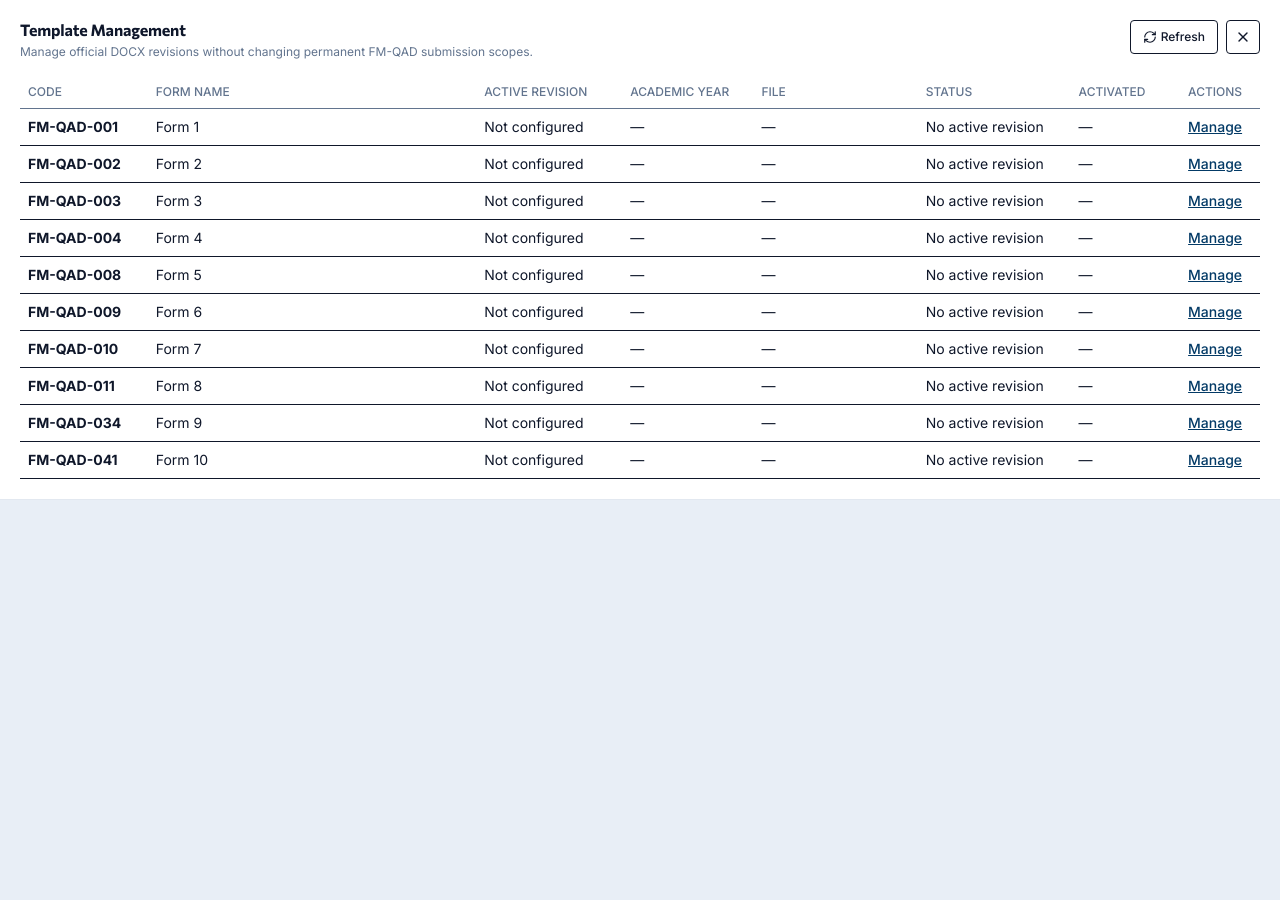
Scenario: MonitorFmQadTemplateManager › lists the fixed catalog and opens version history
The width and height of the screenshot is (1280, 900).
Check: the text "FM-QAD-001" is shown, box x1=20 y1=108 x2=148 y2=146
Check: the text "FM-QAD-010" is shown, box x1=20 y1=330 x2=148 y2=368
What coordinates should you click on to do the following:
click the button "Manage" in the row of "FM-QAD-001"
I would click on:
 (1215, 127)
Its box is x1=1188 y1=117 x2=1242 y2=137.
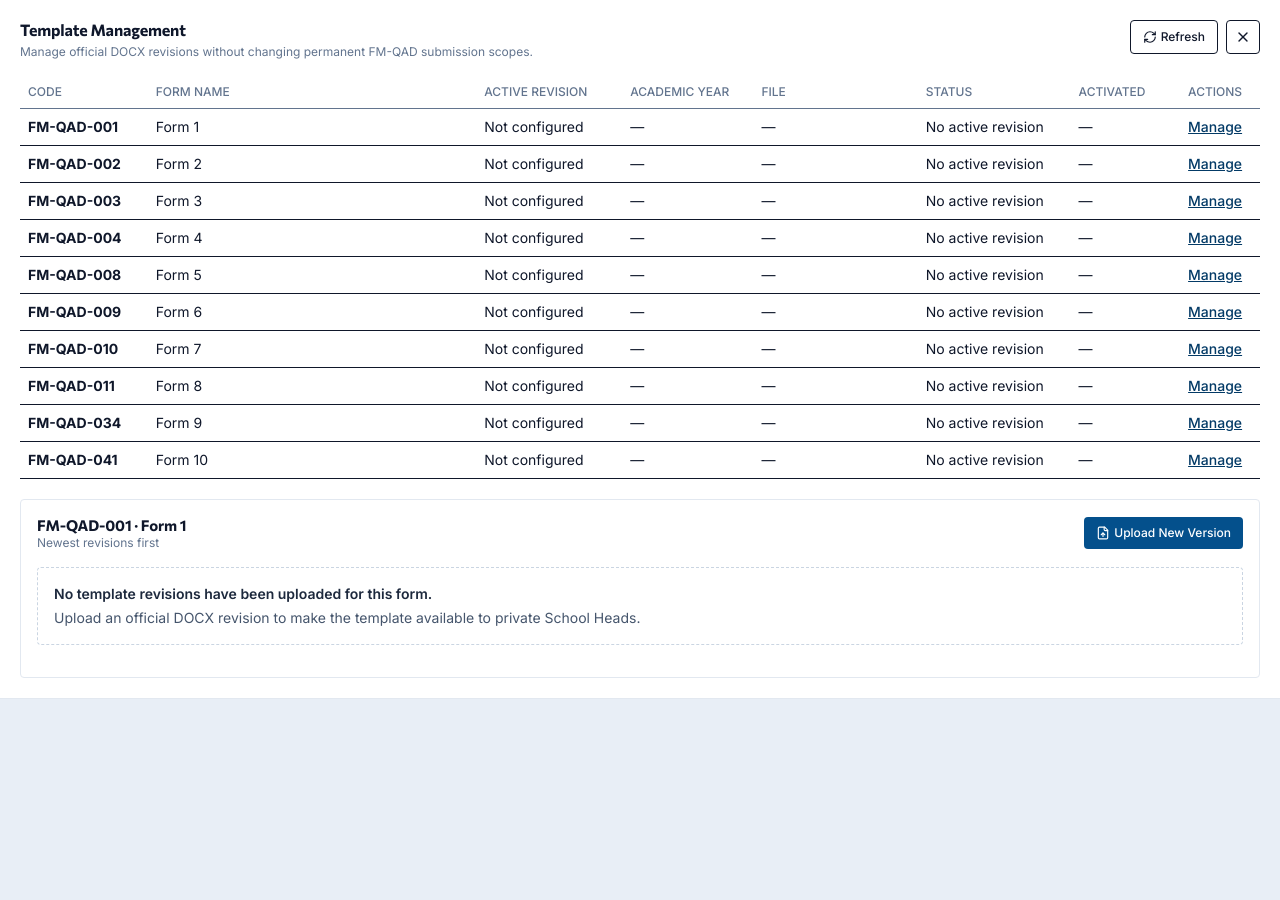
Check: the text "Newest revisions first" is shown, box x1=37 y1=535 x2=159 y2=550
